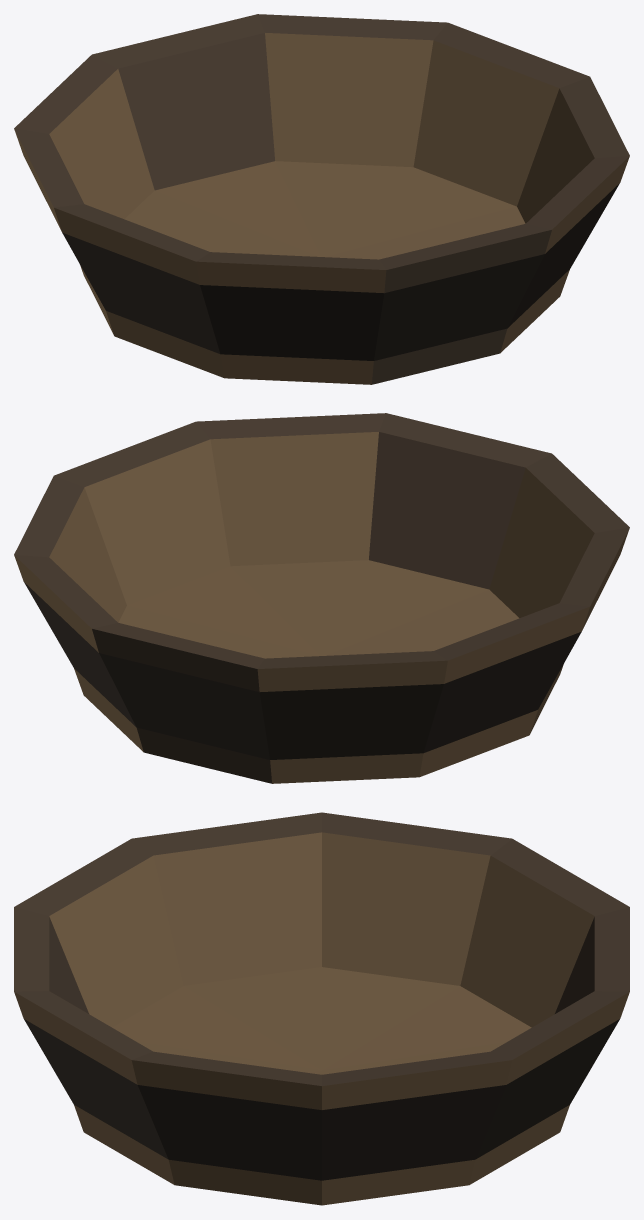
File: Bowl_1.fbx
3 renders of one model, top to bottom at view 1: azimuth 30°, elevation 25°; view 2: azimuth 150°, elevation 25°; view 3: azimuth 270°, elevation 25°, orthographic. The views are drawn at different scales.
Visible parts, largest first — view 1: pCylinder185; view 2: pCylinder185; view 3: pCylinder185.
Part boxes in pixels (x1,y1,x2,y2): pCylinder185: (14,14,629,384); pCylinder185: (14,413,629,783); pCylinder185: (14,812,629,1205).
Bounding box in the file's own units: 21.32 × 5.46 × 20.28.
